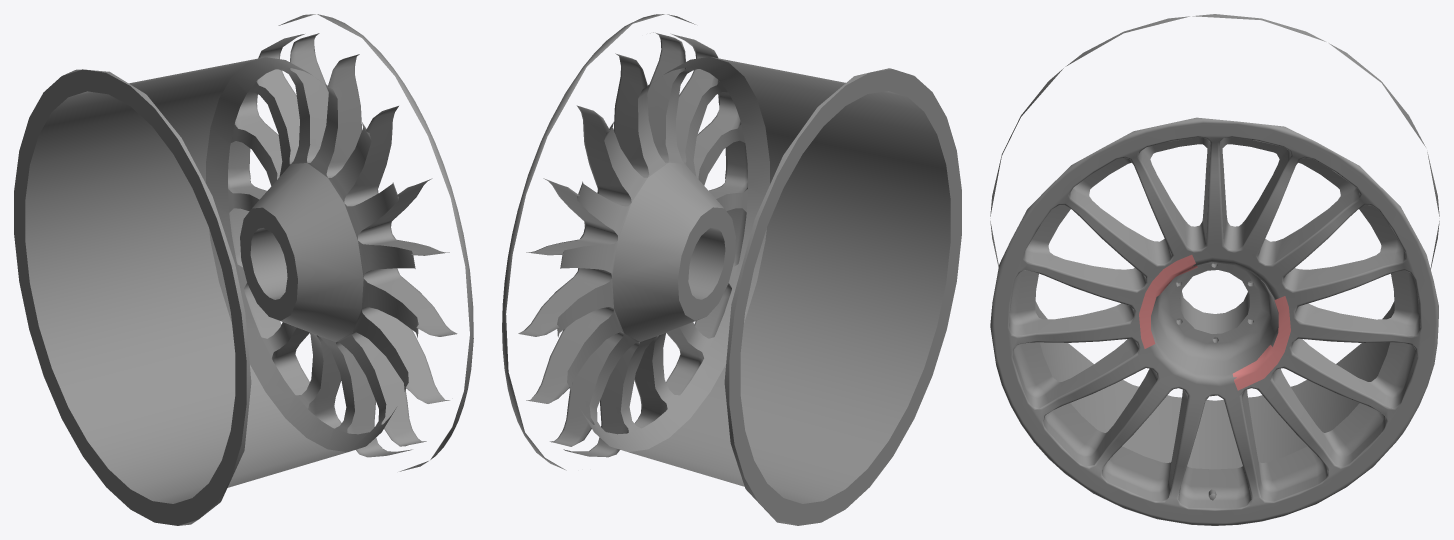
File: ktm_xbow_gt4_rim_lf_Lod1.gltf
3 renders of one model, left to right at view 1: azimuth 30°, elevation 25°; view 2: azimuth 150°, elevation 25°; view 3: azimuth 270°, elevation 25°, orthographic. The views are drawn at different scales.
Parts seen in each view (by area): view 1: ktm_xbow_gt4_rim_lf_Lod1; view 2: ktm_xbow_gt4_rim_lf_Lod1; view 3: ktm_xbow_gt4_rim_lf_Lod1.
Boxes of the visible parts, left/top/right/bottom form: ktm_xbow_gt4_rim_lf_Lod1: left=14, top=14, right=473, bottom=525; ktm_xbow_gt4_rim_lf_Lod1: left=502, top=14, right=961, bottom=525; ktm_xbow_gt4_rim_lf_Lod1: left=990, top=14, right=1439, bottom=525.
Size of the model in its own units: 0.2801 by 0.4973 by 0.4985.
